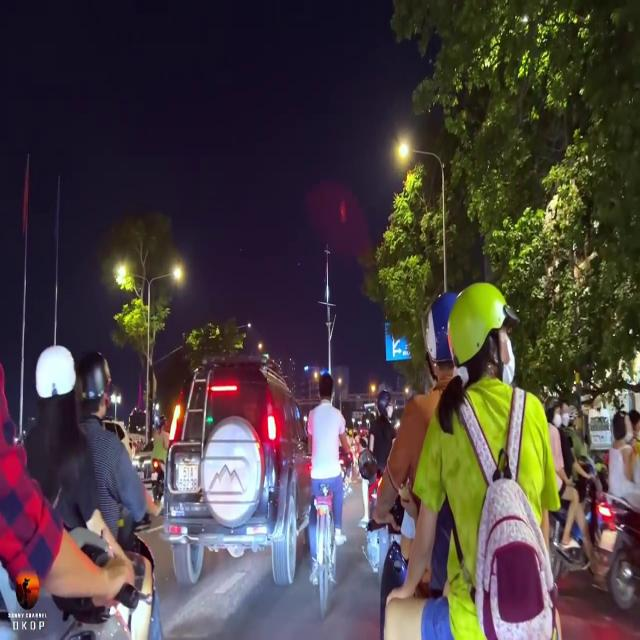bien_trang: (176, 464, 202, 496)
